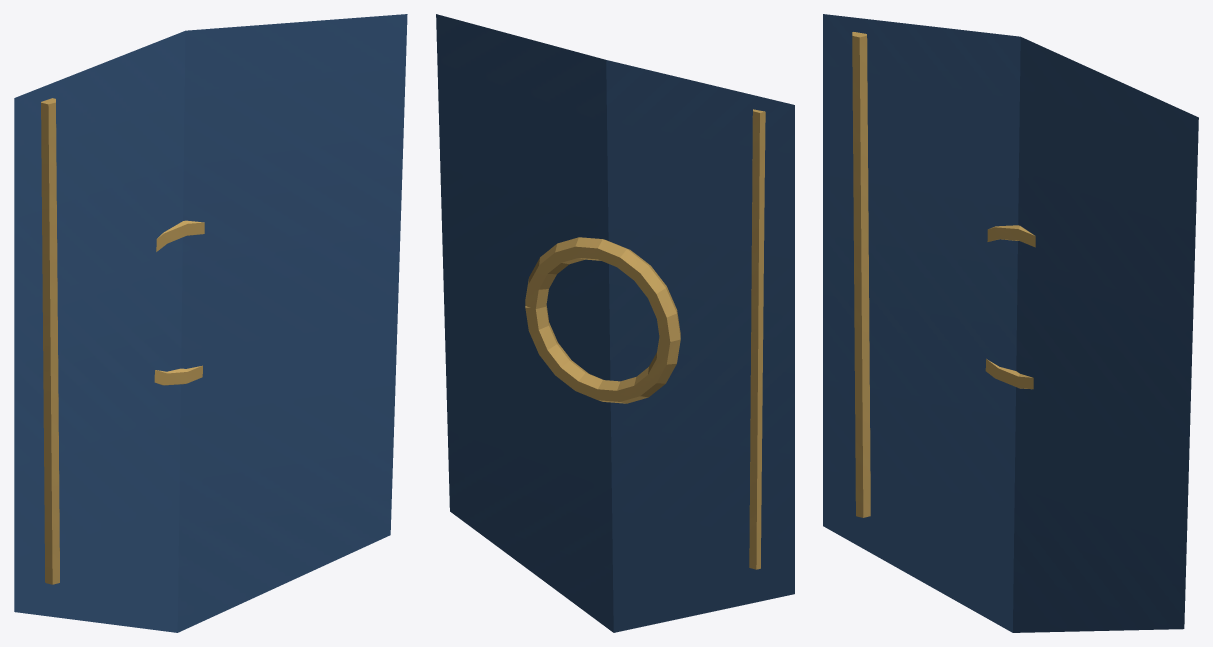
File: SM_WC_Banner.fbx
3 renders of one model, left to right at view 1: azimuth 30°, elevation 25°; view 2: azimuth 150°, elevation 25°; view 3: azimuth 330°, elevation 25°, orthographic. The views are drawn at different scales.
Parts seen in each view (by area): view 1: SM_WC_Banner; view 2: SM_WC_Banner; view 3: SM_WC_Banner.
Boxes of the visible parts, bbox=[...] form: SM_WC_Banner: bbox=[14, 14, 407, 632]; SM_WC_Banner: bbox=[436, 14, 794, 632]; SM_WC_Banner: bbox=[823, 14, 1198, 632].
Size of the model in its own units: 0.98 by 0.1342 by 1.46.
